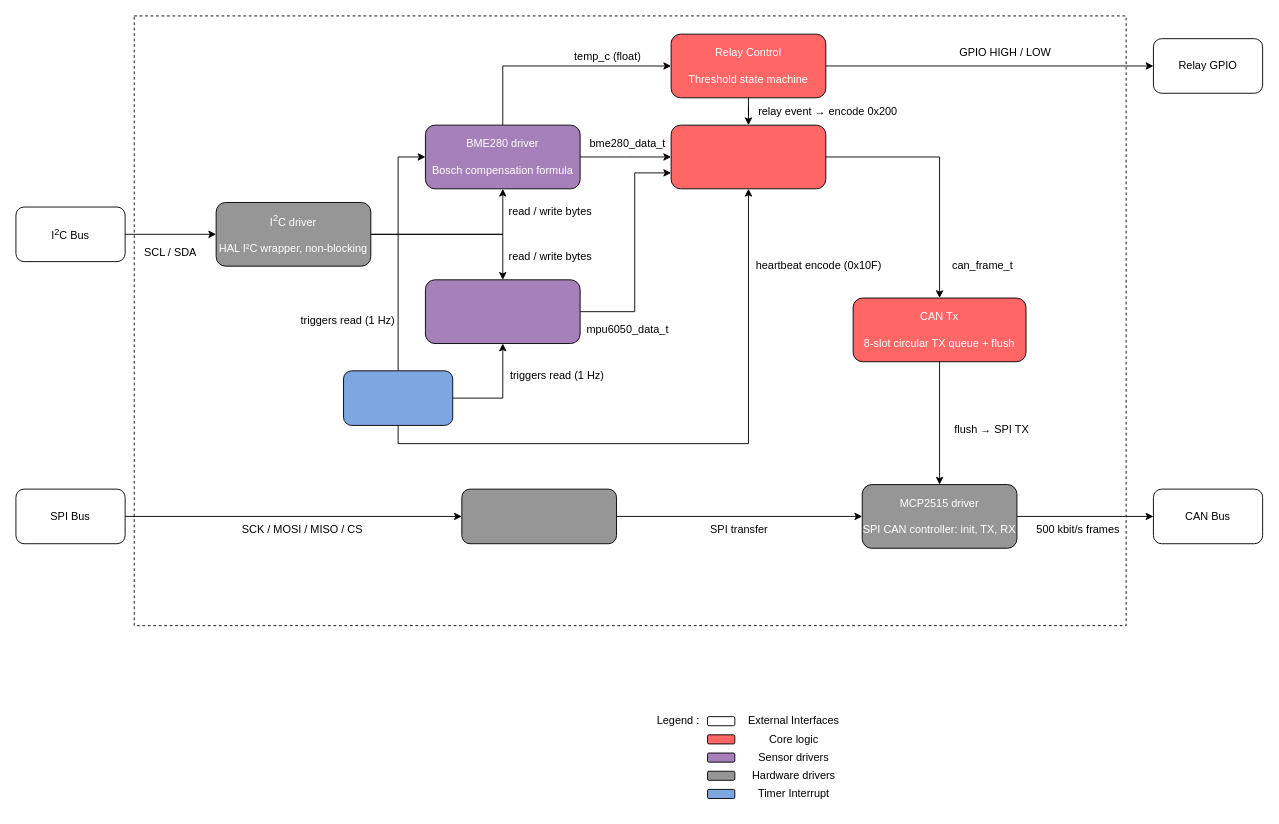
The diagram is 1279 pixels wide and 824 high, and some of its shapes have lost their labels. Here are the shapes that lost their labels. From the top down, the centre of each, then its label:
At (748,156): "CAN Frame Pure encoder / decoder functions".
At (502,311): "MPU6050 driver Raw ADC read, scale factors".
At (398,397): "TIM6 ISR".
At (539,516): "SPI driver HAL SPI wrapper, CS control".
